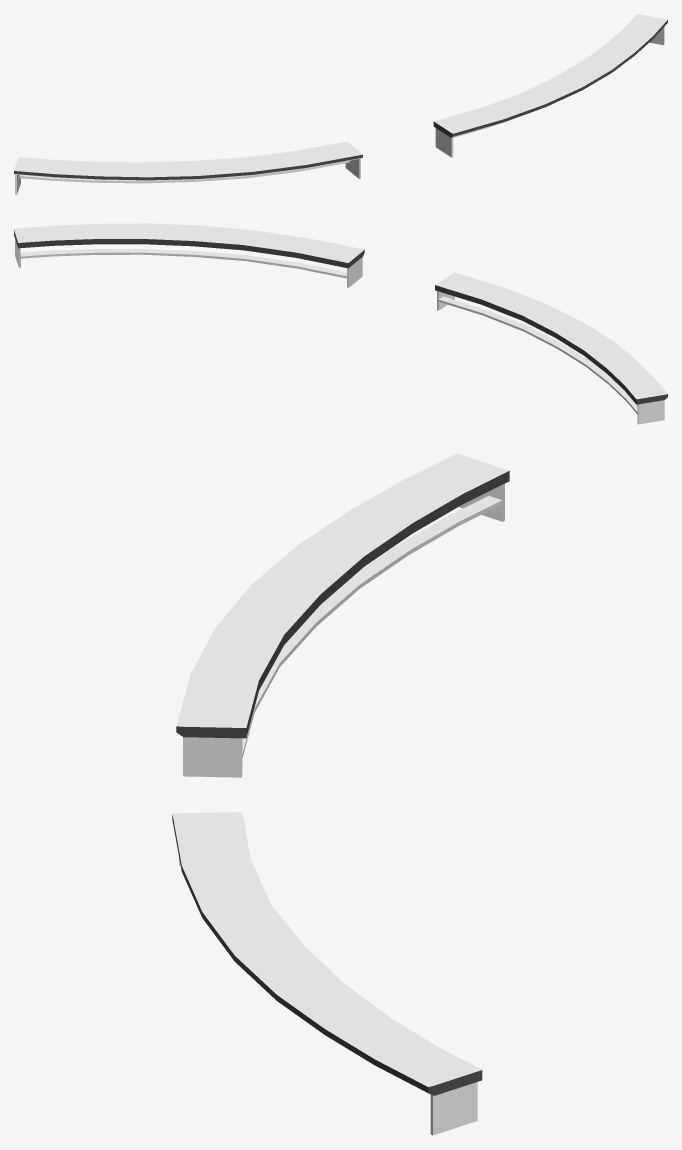
File: SittingChair1.fbx
3 views of the same model, one above another, from view 1: azimuth 30°, elevation 25°; view 2: azimuth 150°, elevation 25°; view 3: azimuth 270°, elevation 25° (orthographic). The views are drawn at different scales.
Visible parts, largest first — view 1: SittingChair1; view 2: SittingChair1; view 3: SittingChair1.
Boxes of the visible parts, x1,y1,x2,y2 form: SittingChair1: (14,14,667,194); SittingChair1: (14,223,667,424); SittingChair1: (172,453,509,1135).
Size of the model in its own units: 1542 by 60.26 by 348.
Materials: 1 (1 with a texture image).
